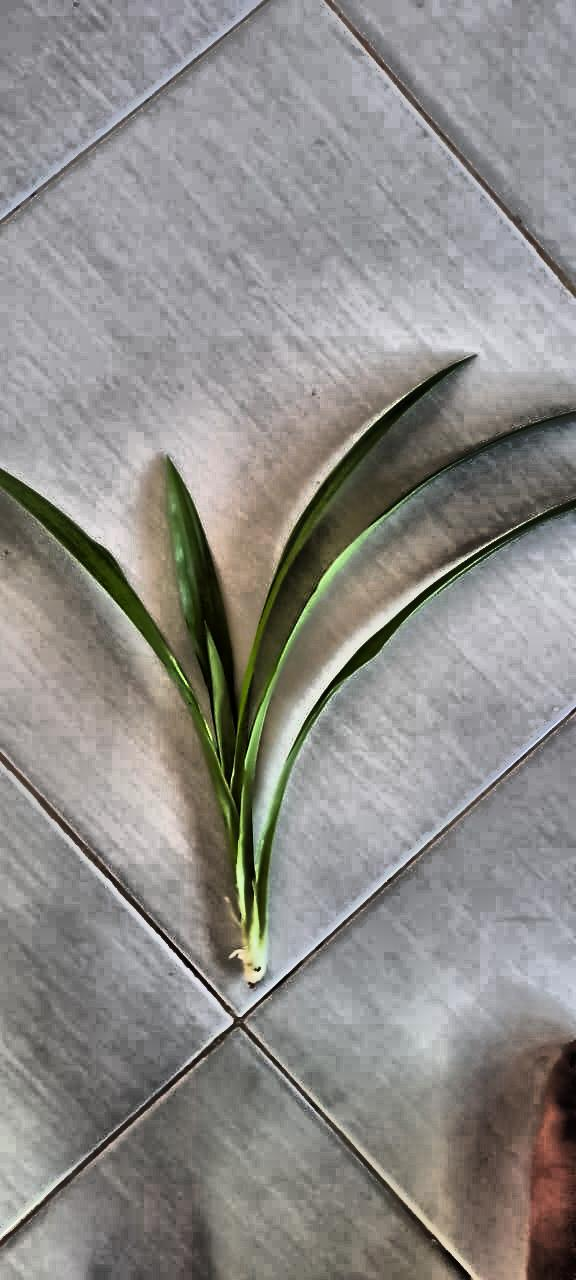daun pandan: (0, 361, 575, 985)
